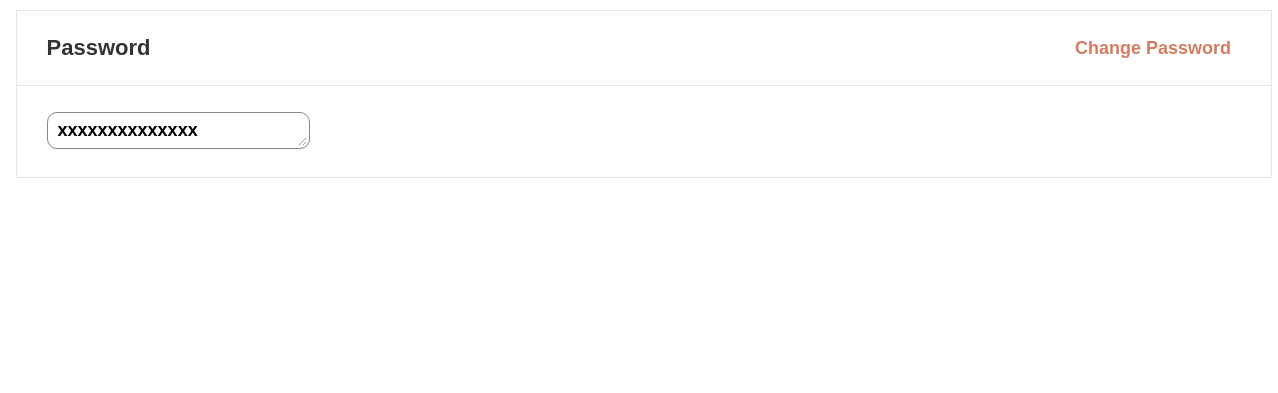
Test case: old password › is marked invalid when it can't be checked
Click the button "Change Password" at point(1152, 48), box left=1072, top=37, right=1232, bottom=59
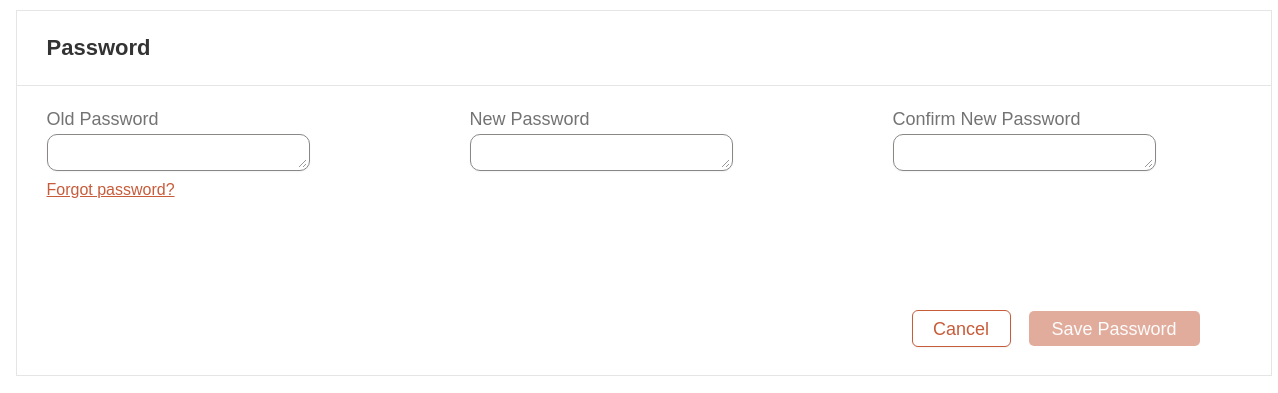
Type "old" into the password field with test id "oldPassword" at point(178, 152), box left=46, top=134, right=310, bottom=171
Wait 1000 ms
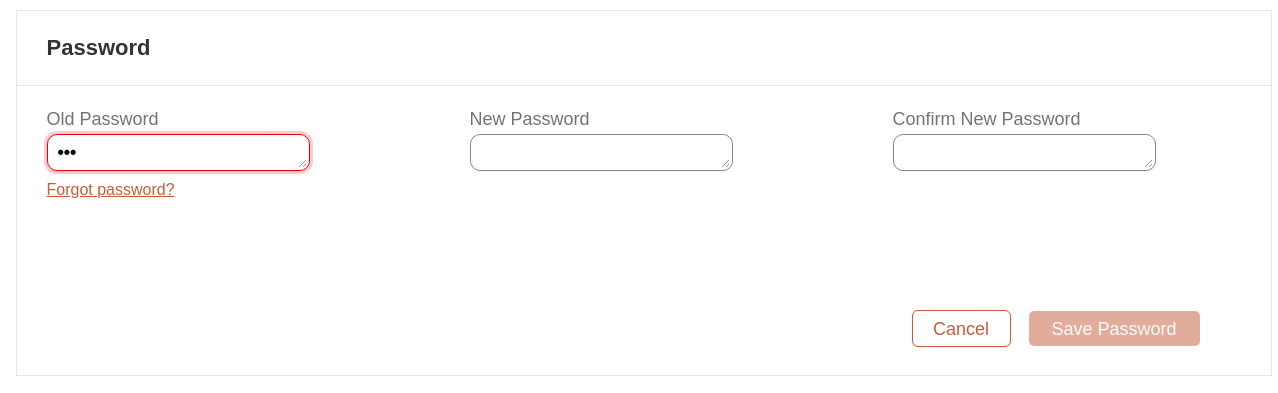
Now the password field with test id "oldPassword" is marked as invalid, box left=46, top=134, right=310, bottom=171
